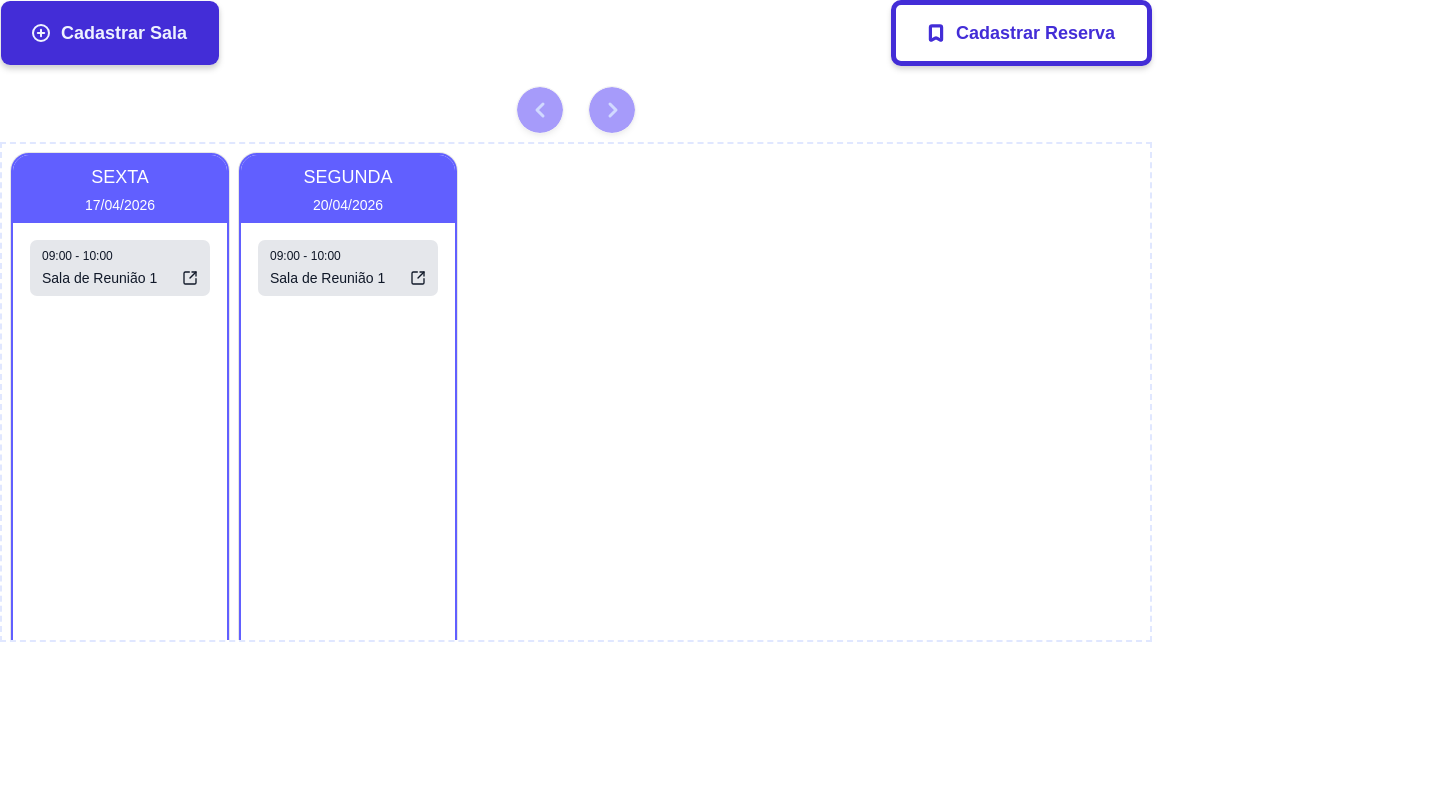
Test: Home › Modal › deve abrir e fechar o modal de detalhes da reserva ao clicar em um card de resumo
Click the button "09:00 - 10:00 Sala de Reunião 1" below "17/04/2026" at (120, 268), box x1=29 y1=239 x2=211 y2=297
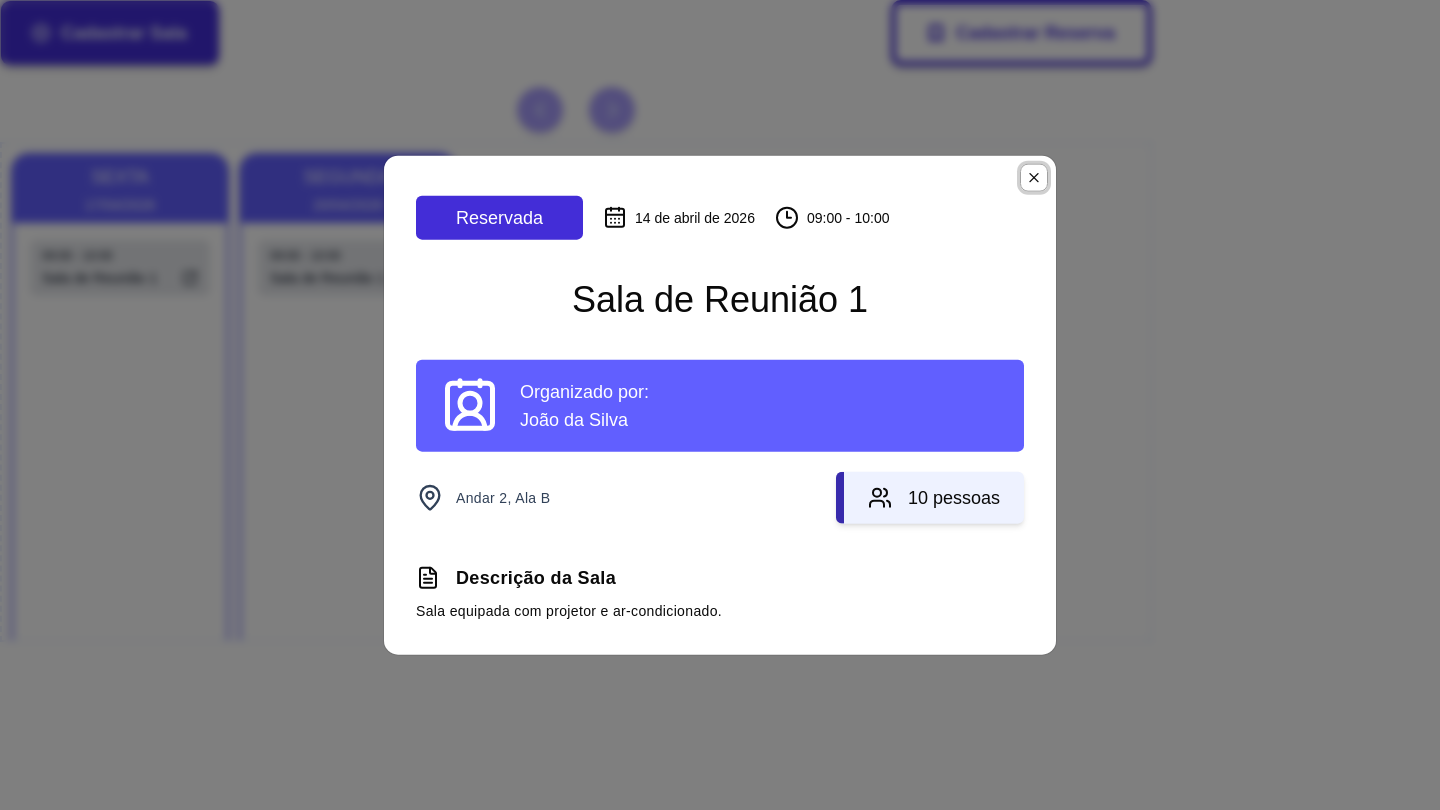
expect the dialog is shown: met, box x1=384 y1=156 x2=1056 y2=654
expect the text "João da Silva" is shown: met, box x1=520 y1=410 x2=628 y2=430
expect the text "Sala equipada com projetor e ar-condicionado." is shown: met, box x1=416 y1=603 x2=722 y2=619
Click the button named "close" at (1034, 178), box x1=1020 y1=164 x2=1048 y2=192
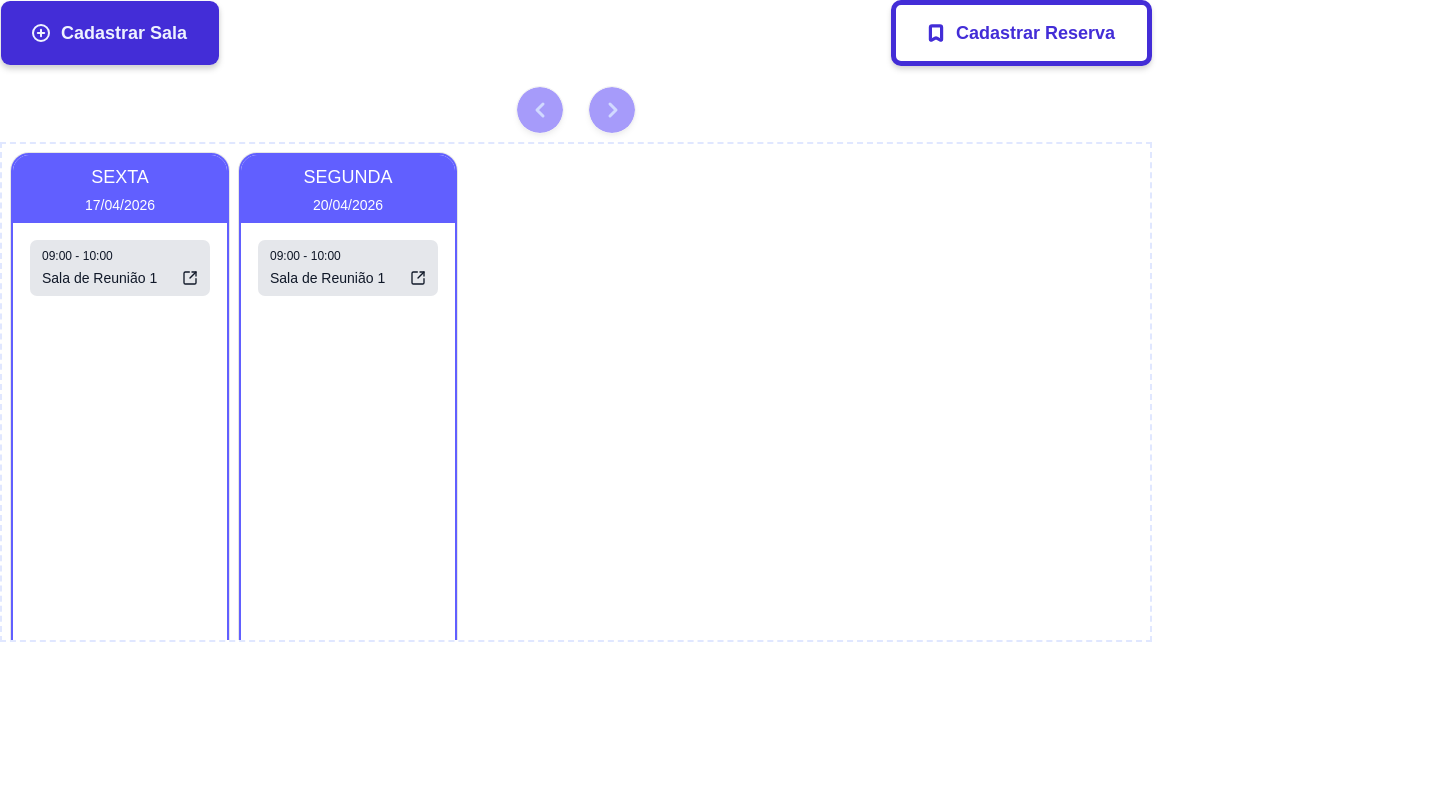
expect the dialog is gone: met
expect the text "João da Silva" is gone: met
expect the text "Sala equipada com projetor e ar-condicionado" is gone: met
